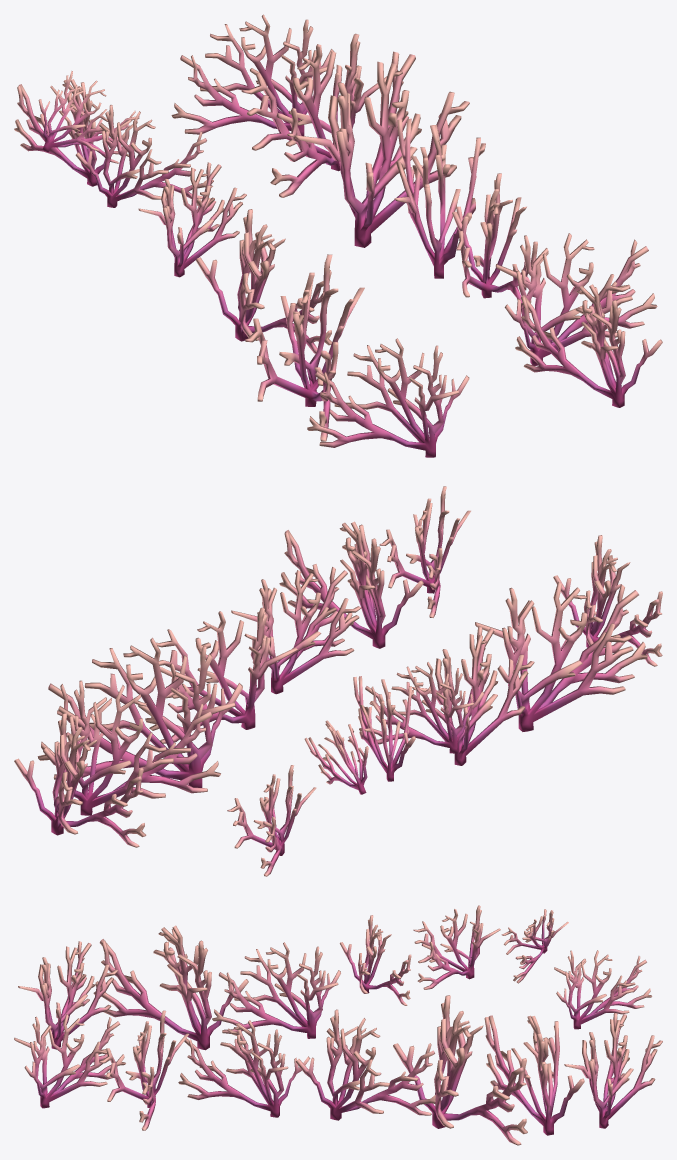
The model's file is stageObject_16.fbx.
3 renders of one model, top to bottom at view 1: azimuth 30°, elevation 25°; view 2: azimuth 150°, elevation 25°; view 3: azimuth 270°, elevation 25°, orthographic. The views are drawn at different scales.
Visible parts, largest first — view 1: sango7_5; view 2: sango7_5; view 3: sango7_5.
Boxes of the visible parts, x1,y1,x2,y2 form: sango7_5: [14, 14, 662, 457]; sango7_5: [14, 486, 662, 876]; sango7_5: [14, 905, 662, 1145].
Bounding box in the file's own units: 369 × 153 × 656.
Materials: 1 (1 with a texture image).
